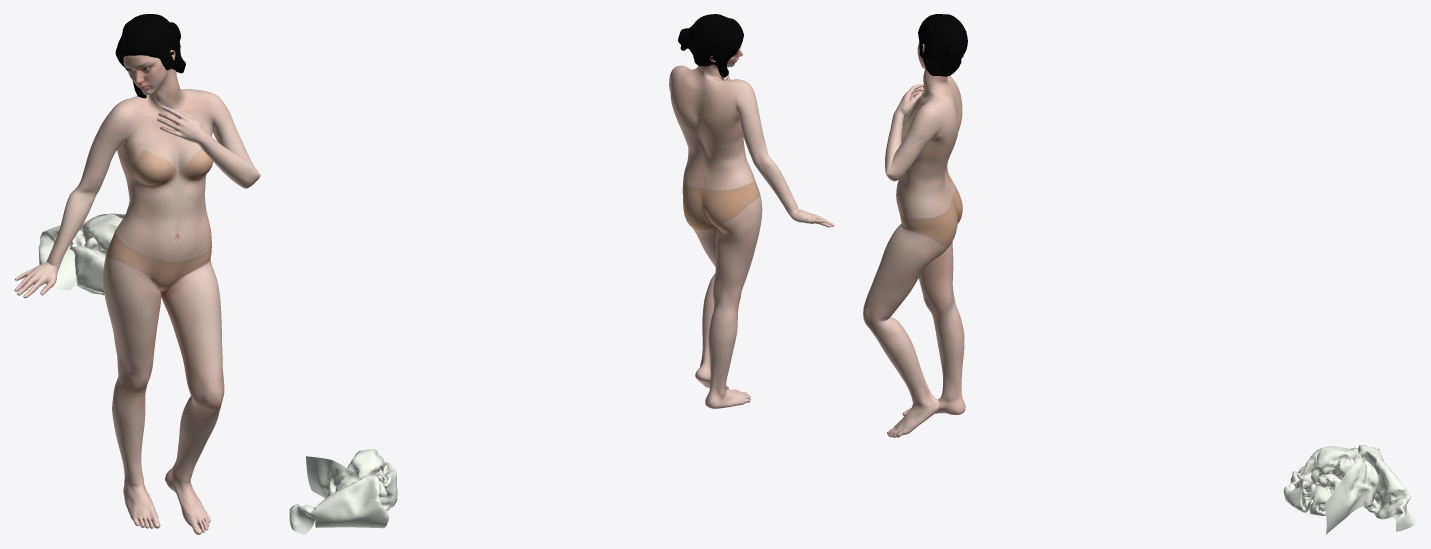
Rendered from Dynamic_2.obj.
3 renders of one model, left to right at view 1: azimuth 30°, elevation 25°; view 2: azimuth 150°, elevation 25°; view 3: azimuth 270°, elevation 25°, orthographic. The views are drawn at different scales.
Bounding box in the file's own units: 1571 × 1767 × 2156.
